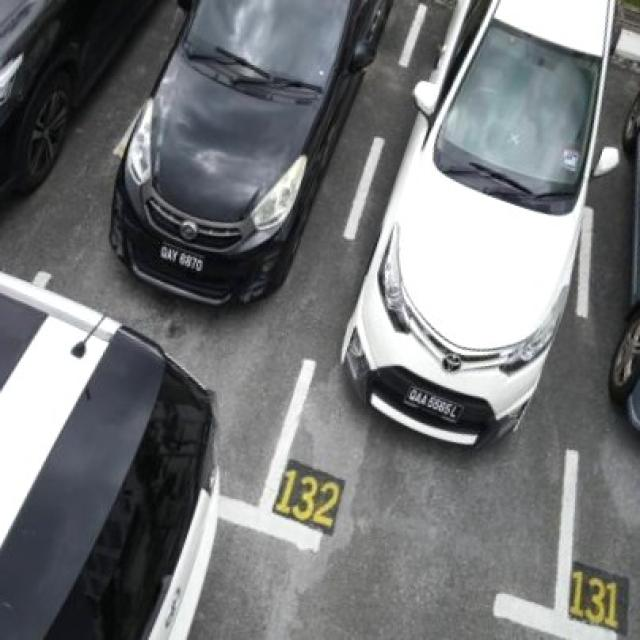Legalparking: (349, 0, 616, 413), (112, 0, 391, 303)
illegalparking: (0, 272, 219, 638)
